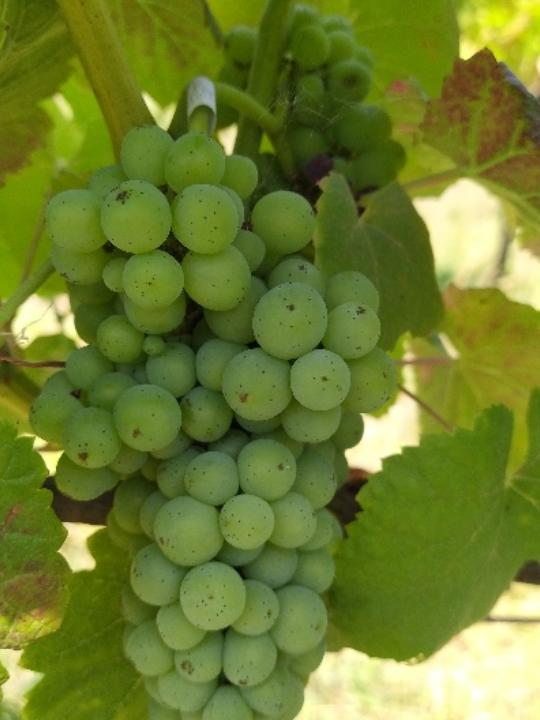grape: (22, 123, 379, 720)
